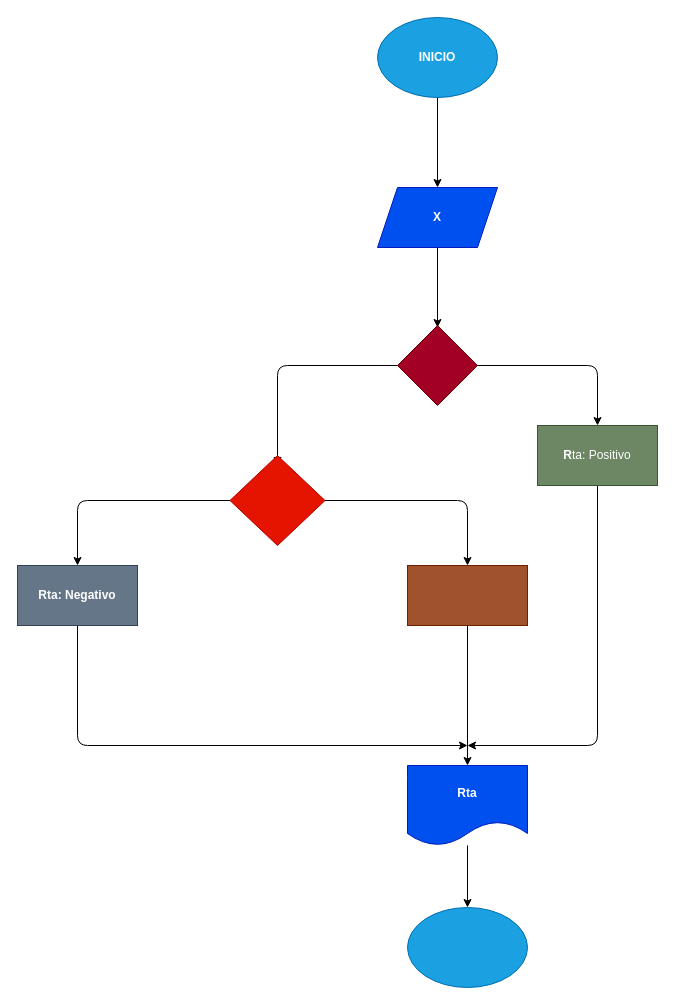
This 675x1005 diagram has some shape labels left out. Each missing label, with the centre of its shape:
"Rta: Neutro" goes at pixel 467 595.
"X == 0" goes at pixel 277 500.
"X > 0" goes at pixel 437 365.
